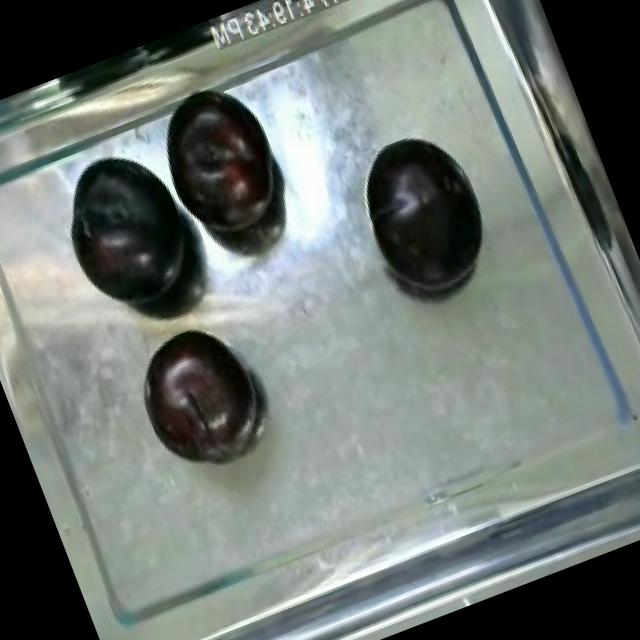Fruit: (335, 114, 509, 315), (42, 132, 216, 328), (145, 76, 302, 258), (123, 312, 280, 480)
